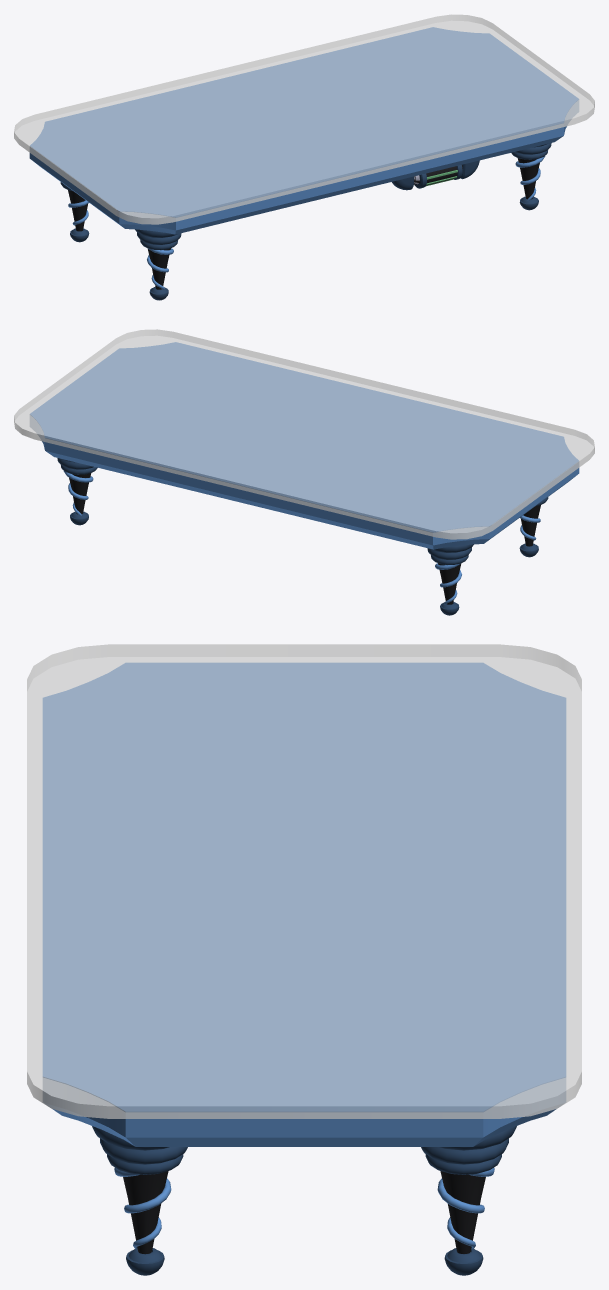
The model's file is Furn_TableFloatingSmall_Blue_B.glb.
3 views of the same model, one above another, from view 1: azimuth 30°, elevation 25°; view 2: azimuth 150°, elevation 25°; view 3: azimuth 270°, elevation 25° (orthographic). The views are drawn at different scales.
Parts seen in each view (by area): view 1: Furn_TableFloatingSmall_Blue_B.001; view 2: Furn_TableFloatingSmall_Blue_B.001; view 3: Furn_TableFloatingSmall_Blue_B.001.
Part boxes in pixels (bbox=[...]): Furn_TableFloatingSmall_Blue_B.001: bbox=[14, 14, 594, 300]; Furn_TableFloatingSmall_Blue_B.001: bbox=[14, 329, 594, 615]; Furn_TableFloatingSmall_Blue_B.001: bbox=[27, 644, 581, 1275].
Size of the model in its own units: 1.4 by 0.3043 by 0.7099.
